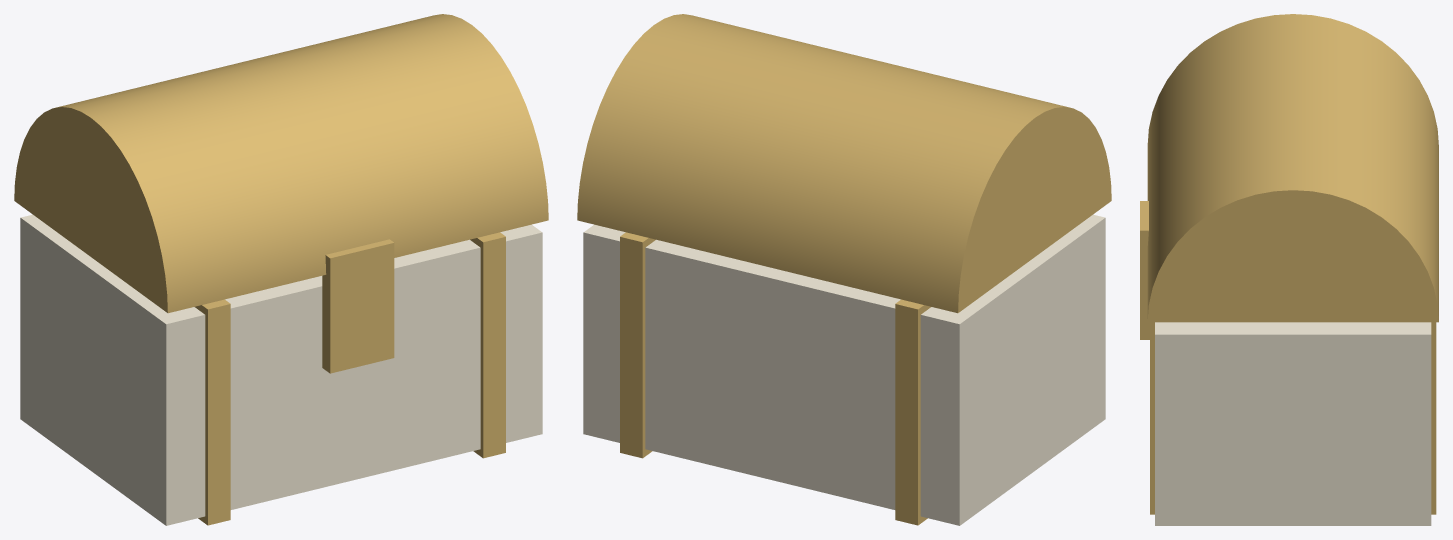
File: chest.glb
The picture shows the model from 3 angles, left to right: view 1: azimuth 30°, elevation 25°; view 2: azimuth 150°, elevation 25°; view 3: azimuth 270°, elevation 25°; orthographic projection. The views are drawn at different scales.
Bounding box in the file's own units: 0.83 × 0.755 × 0.595.
